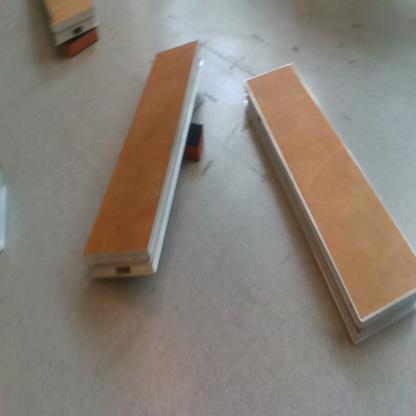Stairs: (243, 63, 416, 347), (83, 40, 206, 279), (42, 3, 98, 48)
